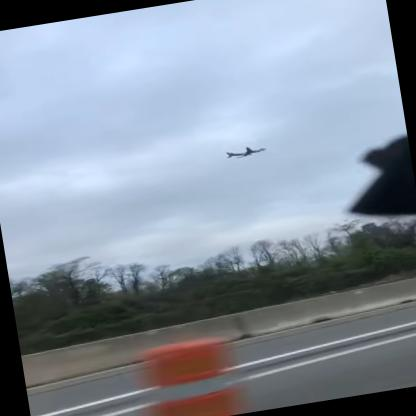plane: (217, 138, 274, 168)
